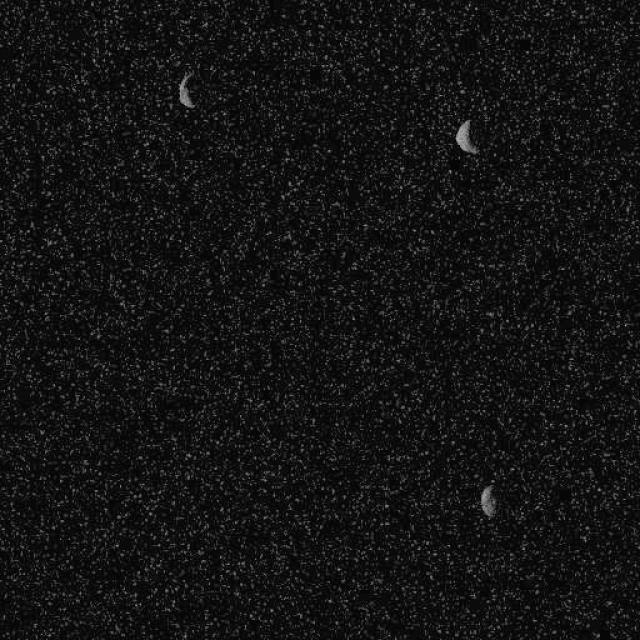D2: (454, 118, 478, 154), (178, 69, 196, 109), (478, 483, 498, 518)
